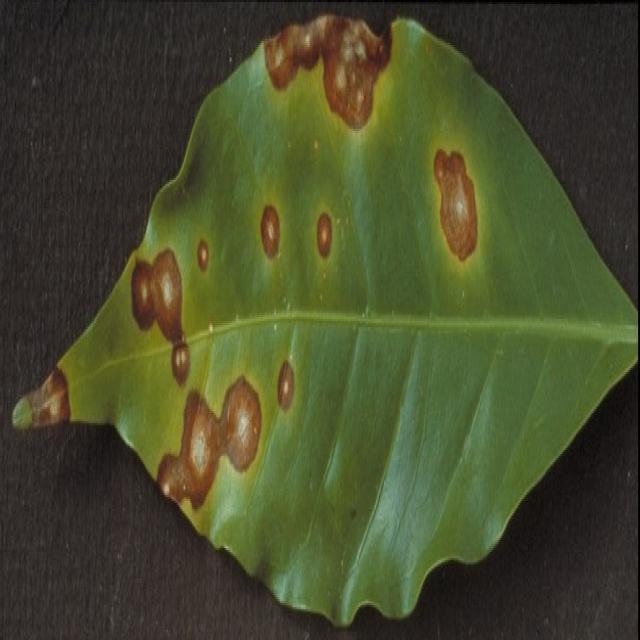Enfermedad-Mancha-de-hierro: (14, 16, 636, 630)
